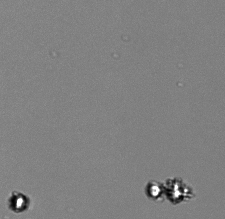Living Cell: (165, 174, 193, 204), (8, 191, 31, 213), (143, 178, 164, 200)
